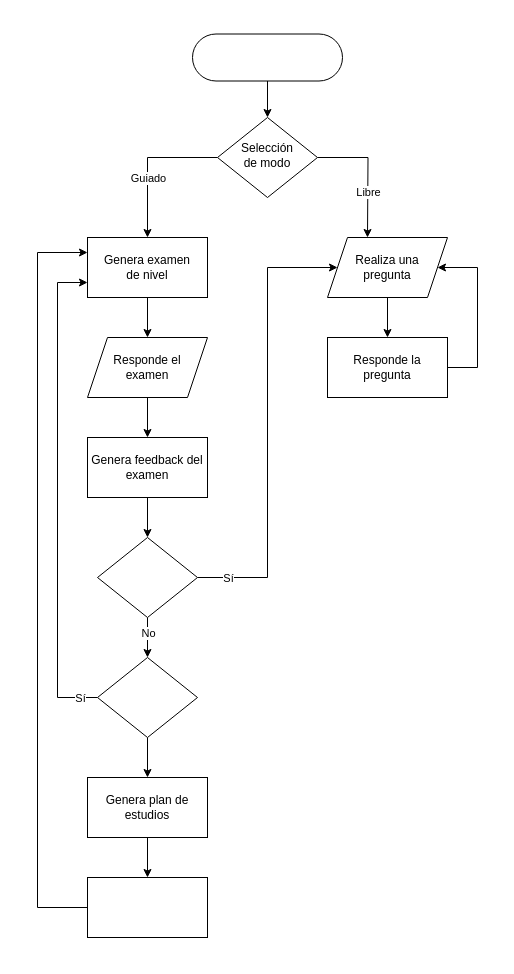
This 514x974 diagram has some shape labels left out. The shapes that lost their labels are listed below. From the top down, each one's centre as x and y in pixels, then its label:
point 267,57: Inicio
point 147,577: ¿Aprobó todos los niveles?
point 147,697: ¿Quiere repetir el examen?
point 147,907: Explicación tema a tema
